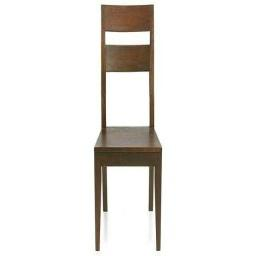Chair: (94, 3, 162, 254)
